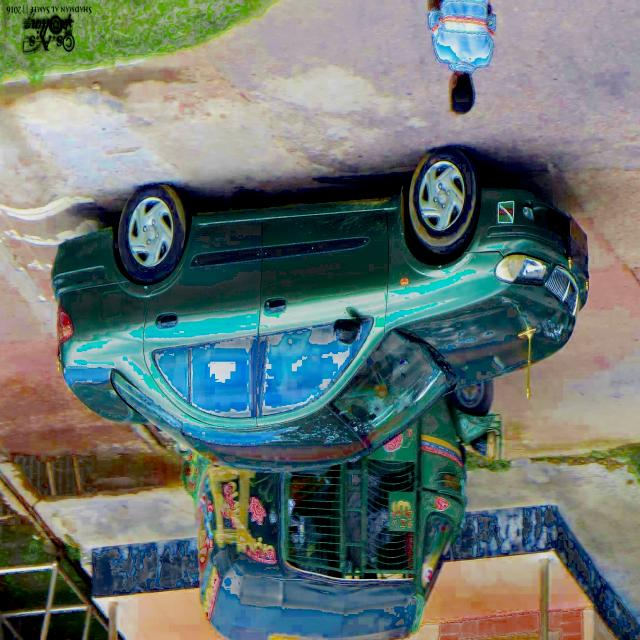green: (47, 170, 598, 460)
